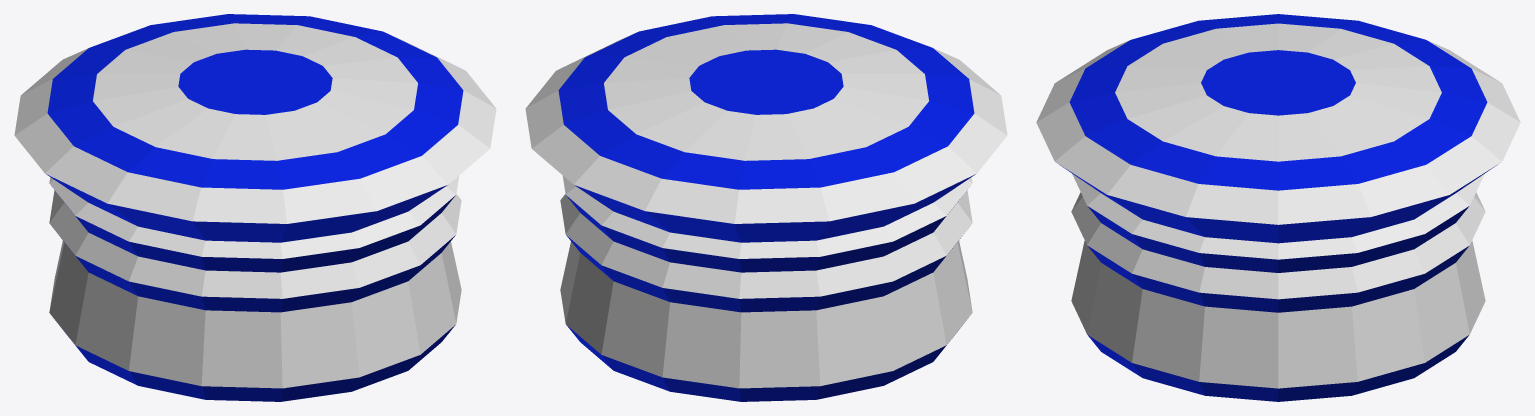
The model's file is JumpingPad.fbx.
3 renders of one model, left to right at view 1: azimuth 30°, elevation 25°; view 2: azimuth 150°, elevation 25°; view 3: azimuth 270°, elevation 25°, orthographic.
Parts seen in each view (by area): view 1: Cylinder.002; view 2: Cylinder.002; view 3: Cylinder.002.
Part boxes in pixels (<box>): Cylinder.002: <box>14,14,496,401</box>; Cylinder.002: <box>525,14,1007,401</box>; Cylinder.002: <box>1036,14,1520,401</box>.
Size of the model in its own units: 221 by 120 by 221.
